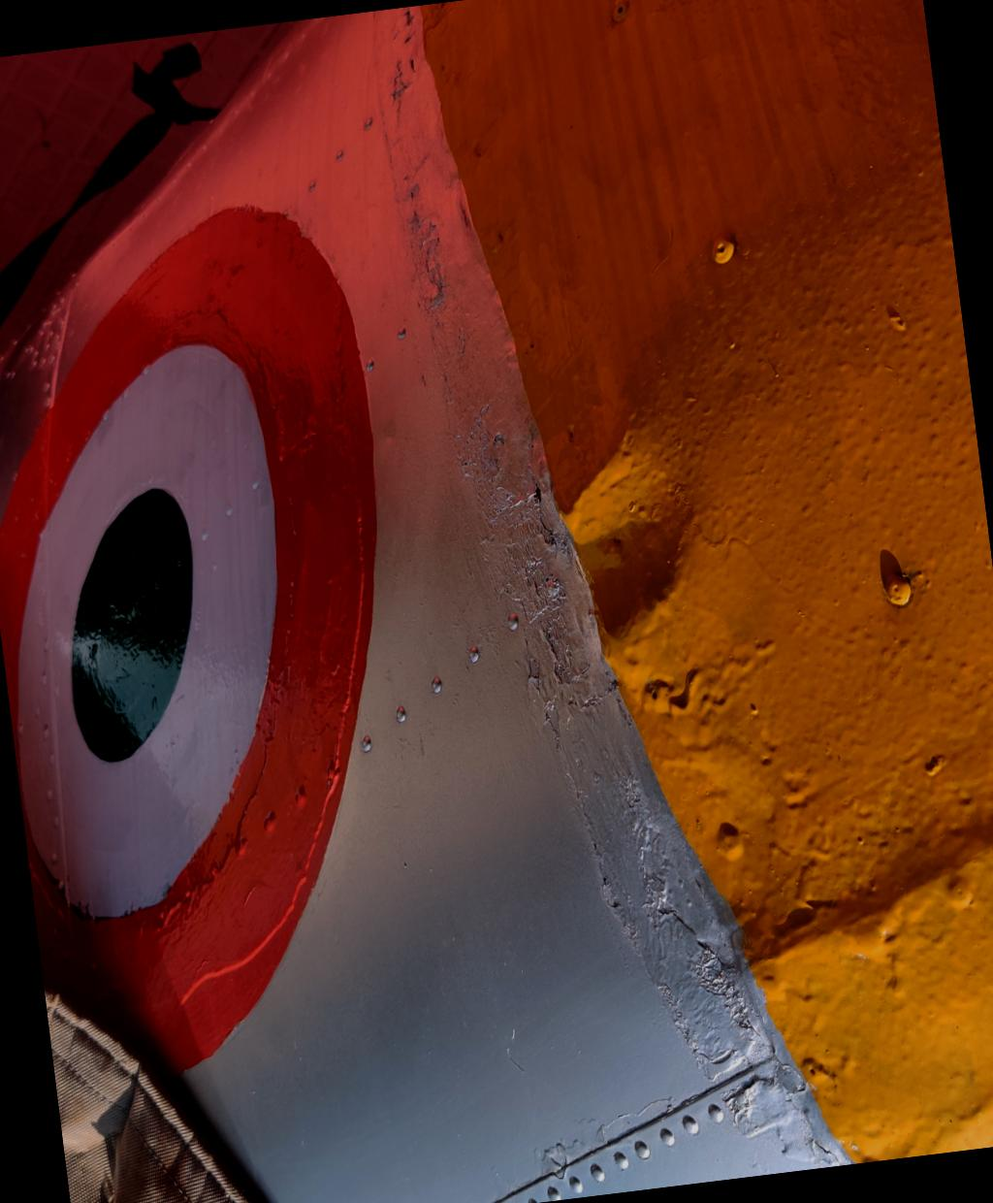dent: (478, 360, 758, 701)
